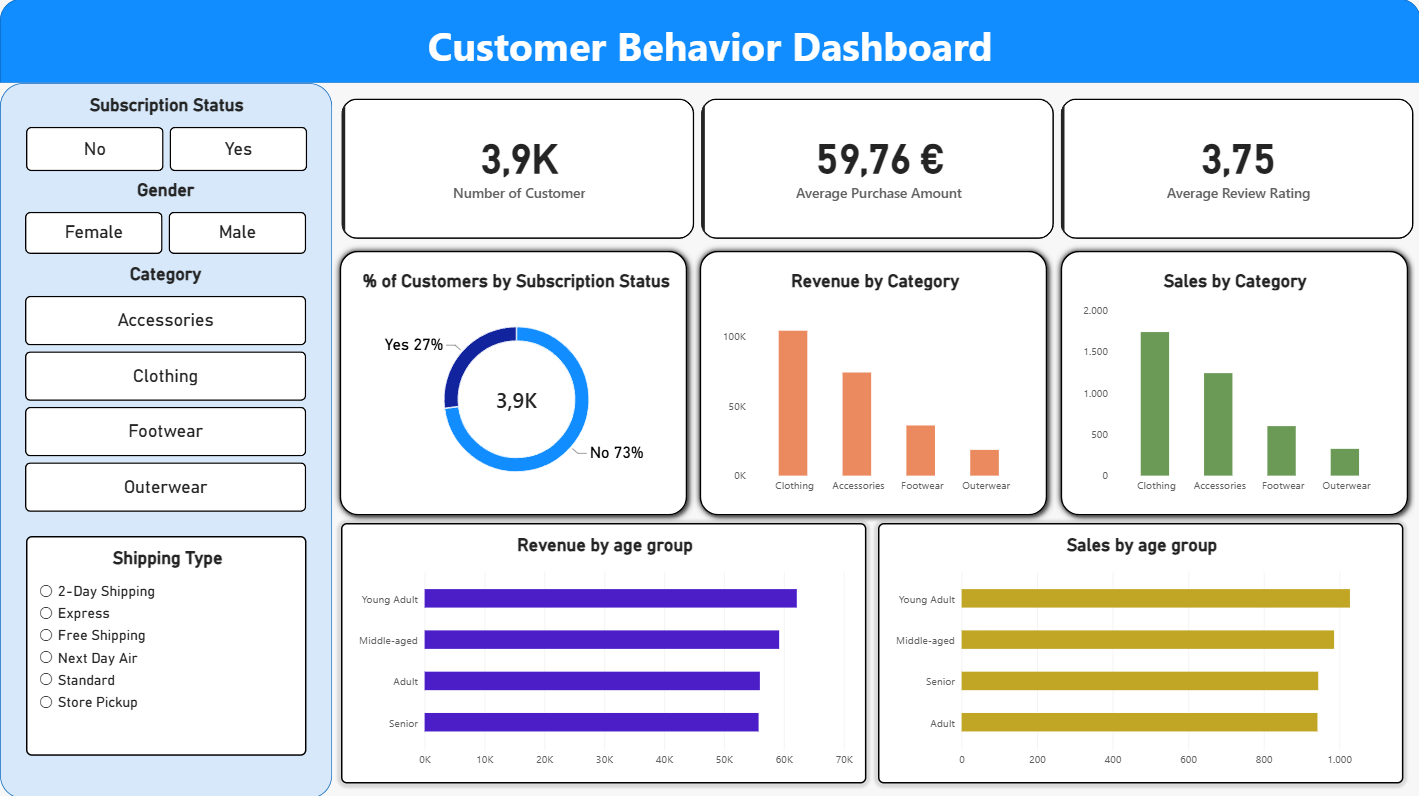

Layout of this report page (visuals, bound fields, positions):
{"tool":"powerbi","page":{"name":"Pagina 1","canvas":[1920,1080],"ordinal":0},"visuals":[{"type":"cardVisual","fields":{"Data":["(cleaned)customer_shopping_behavior.Number of Customer","(cleaned)customer_shopping_behavior.Average Purchase Amount","(cleaned)customer_shopping_behavior.Average Review Rating"]},"box":[461.2,133.4,1450.3,191.6],"z":0},{"type":"shape","box":[0,0,1920,113.4],"z":1000},{"type":"textbox","box":[0,25.9,1920,150],"z":2000},{"type":"shape","box":[449.4,331.6,487.7,375.9],"z":3000},{"type":"donutChart","title":"% of Customers by Subscription Status","fields":{"Category":["(cleaned)customer_shopping_behavior.subscription_status"],"Y":["CountNonNull((cleaned)customer_shopping_behavior.customer_id)"]},"box":[473.7,352.7,447.2,335.4],"z":4000},{"type":"shape","box":[937,331.6,487.7,375.9],"z":5000},{"type":"shape","box":[1424.7,331.6,487.7,375.9],"z":6000},{"type":"clusteredColumnChart","title":"Revenue by Category","fields":{"Y":["Sum((cleaned)customer_shopping_behavior.purchase_amount)"],"Category":["(cleaned)customer_shopping_behavior.category"]},"box":[961.4,352.7,443.9,335.4],"z":7000},{"type":"clusteredColumnChart","title":"Sales by Category","fields":{"Y":["CountNonNull((cleaned)customer_shopping_behavior.customer_id)"],"Category":["(cleaned)customer_shopping_behavior.category"]},"box":[1447.4,352.7,443.9,335.4],"z":8000},{"type":"shape","box":[0,113.4,448.8,967.3],"z":9000},{"type":"advancedSlicerVisual","title":"Subscription Status","fields":{"Values":["(cleaned)customer_shopping_behavior.subscription_status"]},"box":[35.5,129.1,380.3,103.6],"z":10000},{"type":"advancedSlicerVisual","title":"Gender","fields":{"Values":["(cleaned)customer_shopping_behavior.gender"]},"box":[34.1,244.1,380.3,100.8],"z":11000},{"type":"advancedSlicerVisual","title":"Category","fields":{"Values":["(cleaned)customer_shopping_behavior.category"]},"box":[34.1,357.6,380.3,336.3],"z":12000},{"type":"listSlicer","title":"Shipping Type","fields":{"Values":["(cleaned)customer_shopping_behavior.shipping_type"]},"box":[35.5,725.1,378.9,296.6],"z":13000},{"type":"clusteredBarChart","title":"Revenue by age group","fields":{"Y":["Sum((cleaned)customer_shopping_behavior.purchase_amount)"],"Category":["(cleaned)customer_shopping_behavior.age_group"]},"box":[461.2,708.1,709.5,351.9],"z":14000},{"type":"clusteredBarChart","title":"Sales by age group","fields":{"Y":["CountNonNull((cleaned)customer_shopping_behavior.customer_id)"],"Category":["(cleaned)customer_shopping_behavior.age_group"]},"box":[1186.3,708.1,709.5,351.9],"z":15000}]}

Visuals, with their boxes in screenshot pixels (x1, y1, x2, y2), scaled from the page's 1920x1080 canvas onto the 1419x796 screenshot:
cardVisual - (cleaned)customer_shopping_behavior.Number of Customer x (cleaned)customer_shopping_behavior.Average Purchase Amount: detection(341, 98, 1413, 240)
shape: detection(0, 0, 1418, 84)
textbox: detection(0, 19, 1418, 130)
shape: detection(332, 244, 693, 521)
"% of Customers by Subscription Status" donutChart: detection(350, 260, 681, 507)
shape: detection(693, 244, 1053, 521)
shape: detection(1053, 244, 1413, 521)
"Revenue by Category" clusteredColumnChart: detection(711, 260, 1039, 507)
"Sales by Category" clusteredColumnChart: detection(1070, 260, 1398, 507)
shape: detection(0, 84, 332, 795)
"Subscription Status" advancedSlicerVisual: detection(26, 95, 307, 172)
"Gender" advancedSlicerVisual: detection(25, 180, 306, 254)
"Category" advancedSlicerVisual: detection(25, 264, 306, 511)
"Shipping Type" listSlicer: detection(26, 534, 306, 753)
"Revenue by age group" clusteredBarChart: detection(341, 522, 865, 781)
"Sales by age group" clusteredBarChart: detection(877, 522, 1401, 781)
